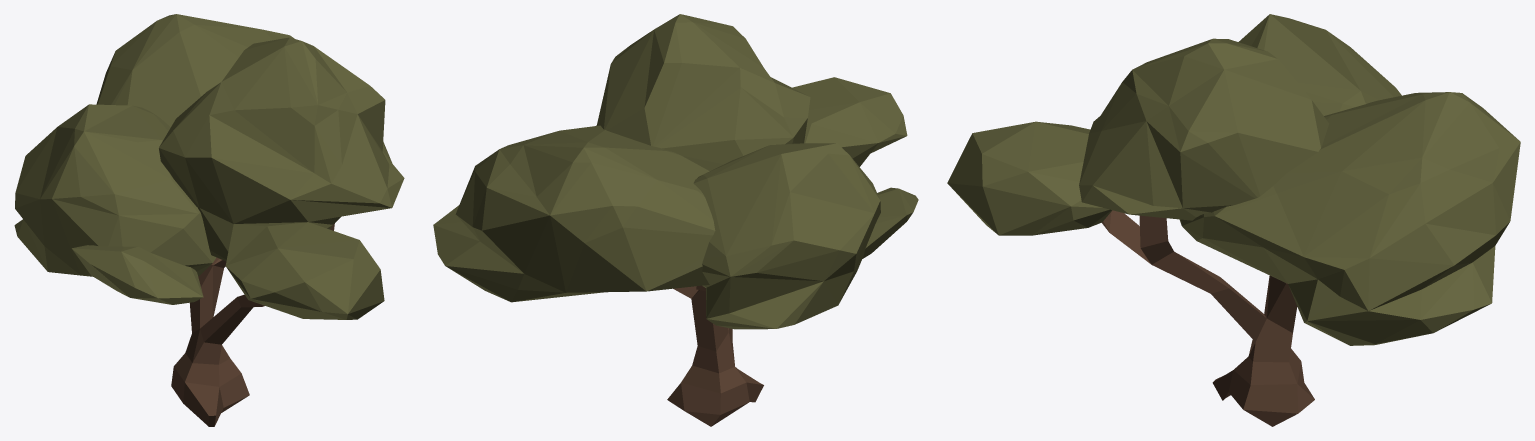
Rendered from bg-tree.glb.
3 views of the same model, side by side, from view 1: azimuth 30°, elevation 25°; view 2: azimuth 150°, elevation 25°; view 3: azimuth 270°, elevation 25° (orthographic). The views are drawn at different scales.
Visible parts, largest first — view 1: SM_Env_Tree_03; view 2: SM_Env_Tree_03; view 3: SM_Env_Tree_03.
Part boxes in pixels (bbox=[...]): SM_Env_Tree_03: bbox=[14, 14, 404, 426]; SM_Env_Tree_03: bbox=[433, 14, 918, 426]; SM_Env_Tree_03: bbox=[947, 14, 1520, 426].
Bounding box in the file's own units: 13.67 × 13 × 16.24.
Materials: 1 (1 with a texture image).
